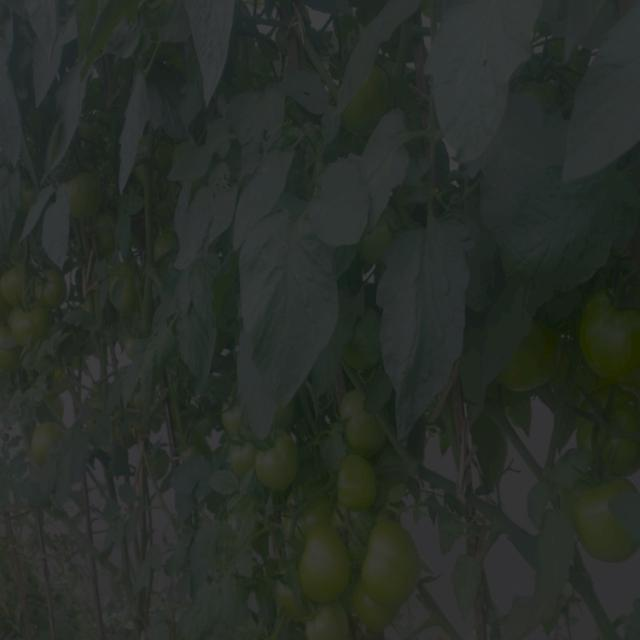tomato: (576, 283, 640, 387), (359, 514, 422, 600), (293, 517, 353, 603), (580, 475, 637, 558), (494, 333, 565, 397), (587, 398, 640, 460), (255, 435, 304, 496), (336, 456, 382, 514), (341, 391, 386, 448), (293, 602, 352, 640), (351, 589, 404, 627), (25, 265, 69, 308), (356, 222, 395, 262), (8, 304, 49, 341), (69, 172, 100, 209), (1, 264, 24, 308), (27, 420, 58, 448), (228, 444, 254, 477), (219, 405, 243, 440), (153, 227, 178, 257)
